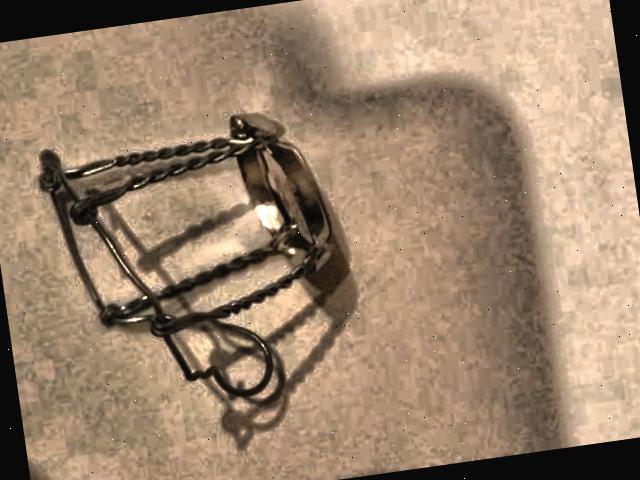Almennt: (29, 82, 364, 419)
